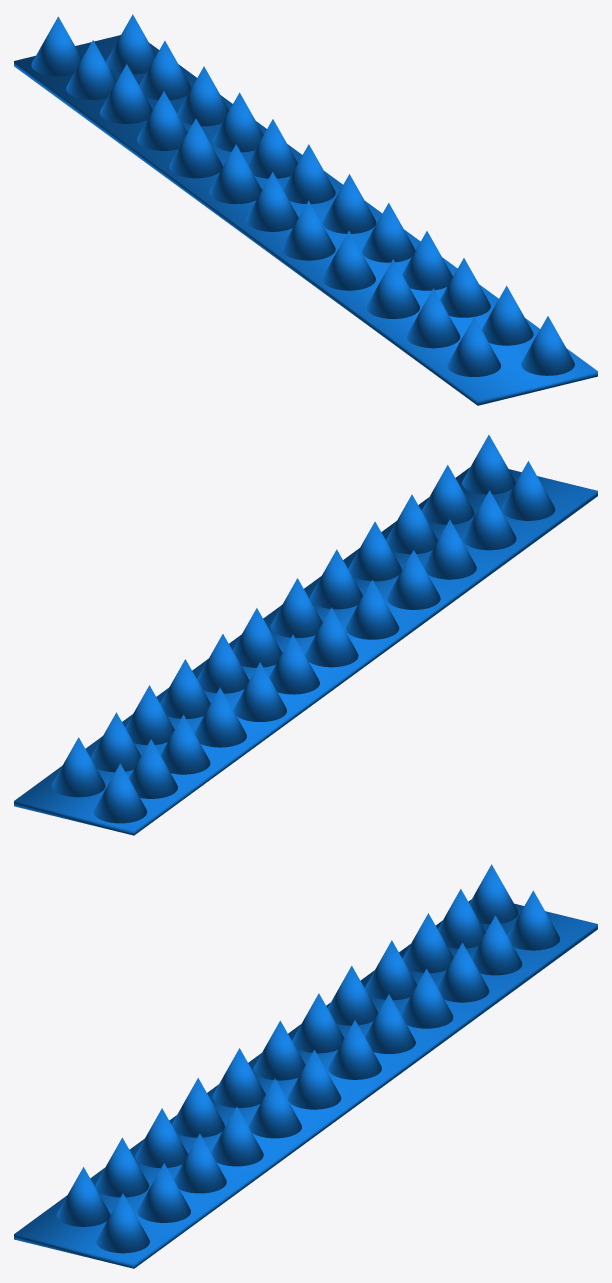
File: PoliceSpikes.fbx
3 renders of one model, top to bottom at view 1: azimuth 30°, elevation 25°; view 2: azimuth 150°, elevation 25°; view 3: azimuth 330°, elevation 25°, orthographic.
Parts seen in each view (by area): view 1: Cube, Cone.015, Cone.006, Cone.009, Cone.003, Cone.001, Cone, Cone.010, Cone.005, Cone.008, Cone.019, Cone.012 (+13 smaller); view 2: Cube, Cone.009, Cone.003, Cone.023, Cone.022, Cone, Cone.006, Cone.012, Cone.007, Cone.005, Cone.015, Cone.001 (+13 smaller); view 3: Cube, Cone.010, Cone.001, Cone, Cone.002, Cone.008, Cone.013, Cone.003, Cone.004, Cone.009, Cone.006, Cone.007 (+13 smaller).
Part boxes in pixels (x1=…): Cube: x1=14, y1=35, x2=597, y2=405; Cone.015: x1=169, y1=118, x2=222, y2=178; Cone.006: x1=322, y1=231, x2=375, y2=290; Cone.009: x1=282, y1=200, x2=335, y2=260; Cone.003: x1=406, y1=288, x2=460, y2=348; Cone.001: x1=521, y1=316, x2=574, y2=375; Cone: x1=447, y1=317, x2=500, y2=376; Cone.010: x1=322, y1=174, x2=376, y2=233; Cone.005: x1=366, y1=259, x2=419, y2=318; Cone.008: x1=362, y1=203, x2=415, y2=262; Cone.019: x1=100, y1=64, x2=152, y2=123; Cone.012: x1=246, y1=172, x2=298, y2=231; Cube: x1=14, y1=467, x2=597, y2=835; Cone.009: x1=345, y1=580, x2=399, y2=639; Cone.003: x1=462, y1=490, x2=516, y2=550; Cone.023: x1=93, y1=763, x2=147, y2=823; Cone.022: x1=51, y1=737, x2=105, y2=797; Cone: x1=501, y1=461, x2=555, y2=520; Cone.006: x1=387, y1=550, x2=440, y2=609; Cone.012: x1=305, y1=607, x2=358, y2=667; Cone.007: x1=348, y1=521, x2=401, y2=581; Cone.005: x1=423, y1=519, x2=476, y2=579; Cone.015: x1=233, y1=662, x2=286, y2=721; Cone.001: x1=462, y1=435, x2=515, y2=494; Cube: x1=14, y1=899, x2=597, y2=1268; Cone.010: x1=287, y1=1050, x2=341, y2=1109; Cone.001: x1=96, y1=1193, x2=149, y2=1253; Cone: x1=56, y1=1167, x2=110, y2=1226; Cone.002: x1=137, y1=1163, x2=190, y2=1222; Cone.008: x1=248, y1=1078, x2=301, y2=1138; Cone.013: x1=328, y1=1020, x2=381, y2=1079; Cone.003: x1=95, y1=1137, x2=149, y2=1197; Cone.004: x1=174, y1=1133, x2=226, y2=1193; Cone.009: x1=212, y1=1048, x2=265, y2=1107; Cone.006: x1=171, y1=1078, x2=224, y2=1137; Cone.007: x1=211, y1=1106, x2=263, y2=1166.
Bounding box in the file's own units: 160 × 69.14 × 1073.
